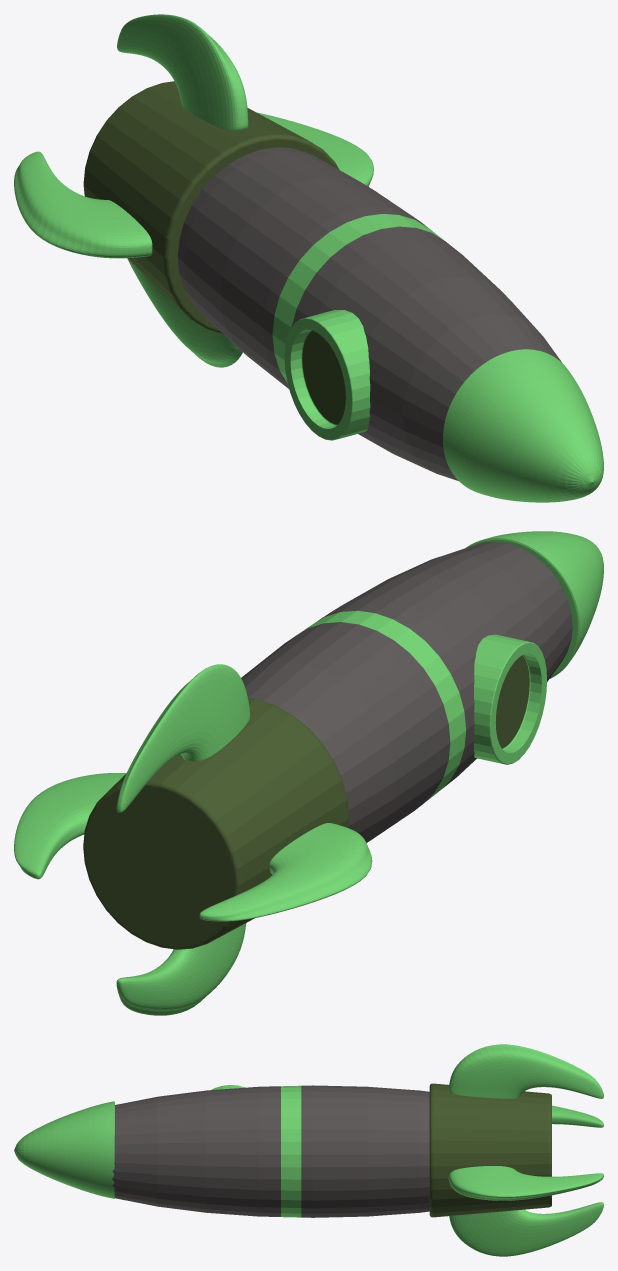
Rendered from rocket_model_dark.glb.
The picture shows the model from 3 angles, top to bottom: view 1: azimuth 30°, elevation 25°; view 2: azimuth 150°, elevation 25°; view 3: azimuth 270°, elevation 25°; orthographic projection. The views are drawn at different scales.
Parts seen in each view (by area): view 1: imagetostl_mesh9; view 2: imagetostl_mesh9; view 3: imagetostl_mesh9.
Boxes of the visible parts, box(x1,y1,x2,y2) form: imagetostl_mesh9: box(14, 14, 603, 502); imagetostl_mesh9: box(14, 531, 603, 1015); imagetostl_mesh9: box(14, 1044, 603, 1256).
Size of the model in its own units: 1.95 by 1.95 by 4.97.
